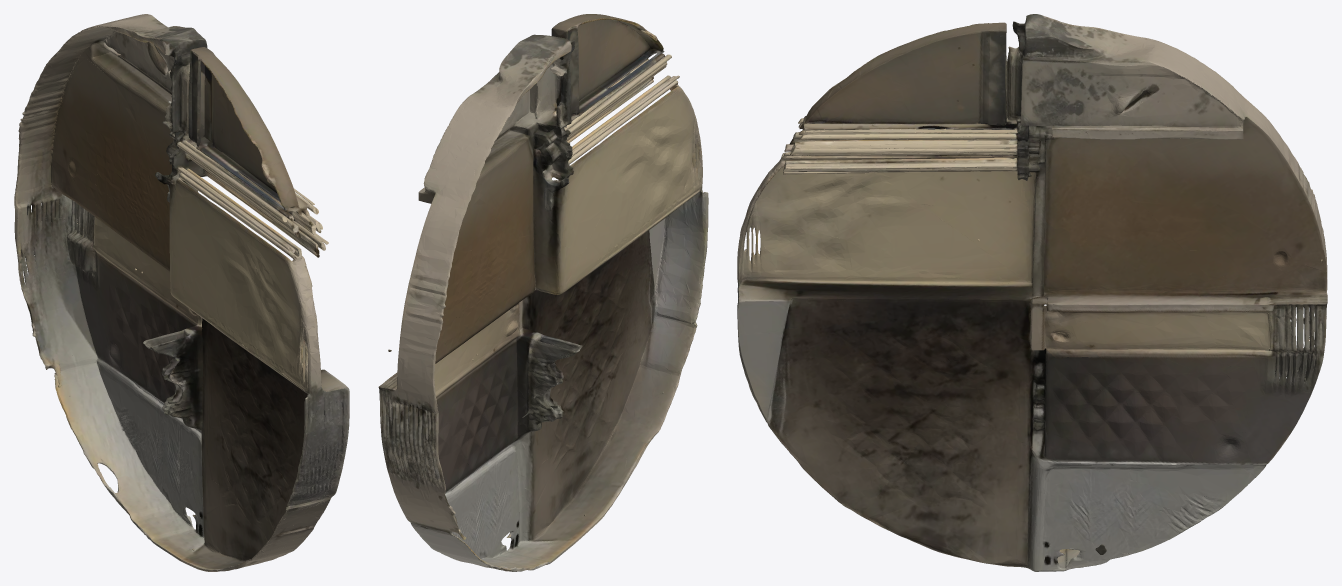
3 renders of one model, left to right at view 1: azimuth 30°, elevation 25°; view 2: azimuth 150°, elevation 25°; view 3: azimuth 270°, elevation 25°, orthographic. The views are drawn at different scales.
Parts seen in each view (by area): view 1: tripo_node_3ae2f3ed-acff-46a0-a581-01c9225fa516; view 2: tripo_node_3ae2f3ed-acff-46a0-a581-01c9225fa516; view 3: tripo_node_3ae2f3ed-acff-46a0-a581-01c9225fa516.
Boxes of the visible parts, x1,y1,x2,y2 form: tripo_node_3ae2f3ed-acff-46a0-a581-01c9225fa516: [14, 14, 349, 571]; tripo_node_3ae2f3ed-acff-46a0-a581-01c9225fa516: [378, 14, 708, 571]; tripo_node_3ae2f3ed-acff-46a0-a581-01c9225fa516: [737, 14, 1327, 571].
Size of the model in its own units: 0.1509 by 1 by 0.9995.
1 material, 1 textured.
